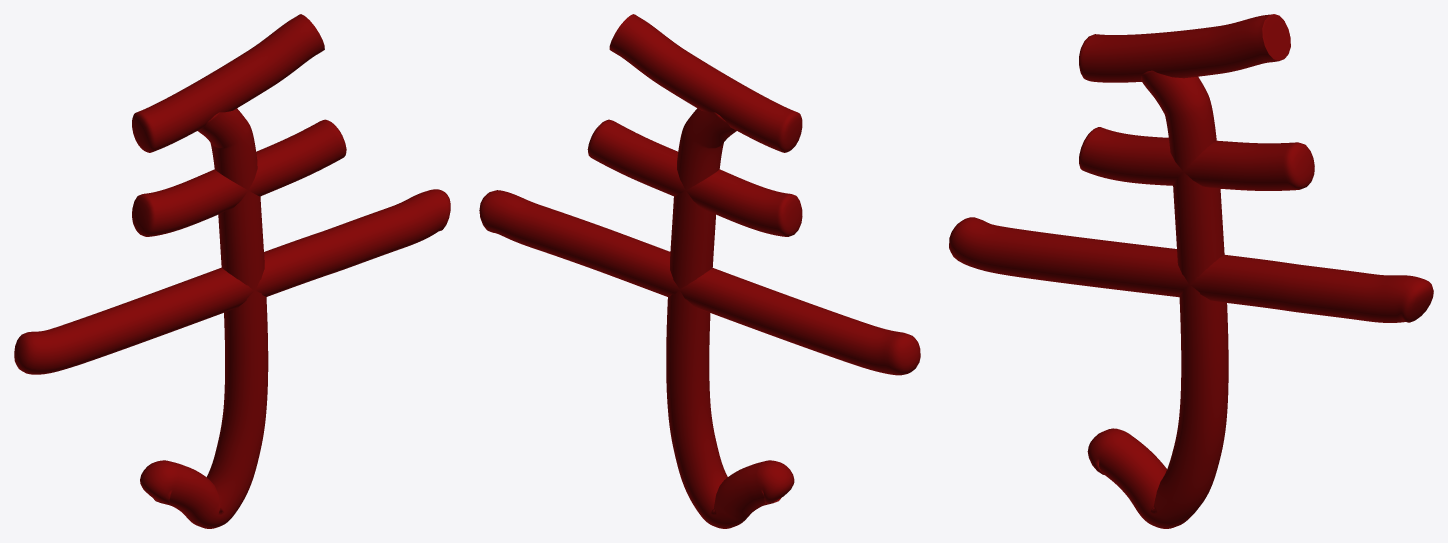
Rendered from untee.fbx.
3 views of the same model, side by side, from view 1: azimuth 30°, elevation 25°; view 2: azimuth 150°, elevation 25°; view 3: azimuth 330°, elevation 25° (orthographic). The views are drawn at different scales.
Visible parts, largest first — view 1: BézierCurve.004, BézierCurve.005, BézierCurve.002, BézierCurve.003; view 2: BézierCurve.004, BézierCurve.005, BézierCurve.002, BézierCurve.003; view 3: BézierCurve.005, BézierCurve.004, BézierCurve.003, BézierCurve.002.
Boxes of the visible parts, x1,y1,x2,y2 form: BézierCurve.004: (14, 189, 450, 374); BézierCurve.005: (140, 108, 268, 528); BézierCurve.002: (132, 14, 324, 152); BézierCurve.003: (132, 119, 346, 236); BézierCurve.004: (479, 190, 920, 375); BézierCurve.005: (666, 108, 794, 528); BézierCurve.002: (609, 14, 802, 152); BézierCurve.003: (587, 119, 802, 236); BézierCurve.005: (1087, 70, 1228, 528); BézierCurve.004: (949, 217, 1433, 322); BézierCurve.003: (1079, 127, 1314, 190); BézierCurve.002: (1079, 14, 1290, 82).
Size of the model in its own units: 5.32 by 5.75 by 0.4862.
